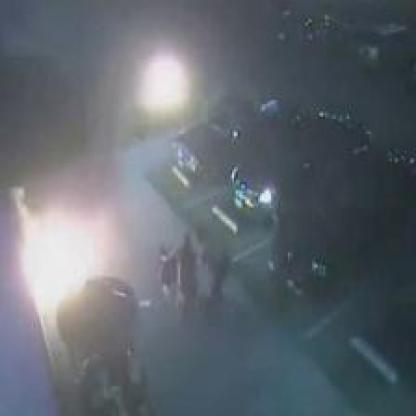fire: (7, 182, 112, 325), (130, 46, 202, 117)
